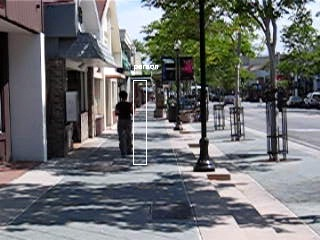person: (112, 90, 135, 156), (111, 90, 134, 156), (113, 90, 136, 156), (112, 89, 135, 155), (112, 91, 135, 157)
target_negative: (30, 115, 219, 220), (5, 55, 157, 171), (80, 4, 208, 87), (118, 167, 304, 221), (13, 19, 185, 58), (56, 29, 148, 51)
